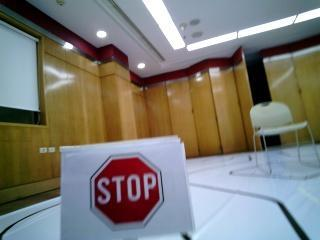stop: (74, 149, 172, 231)
